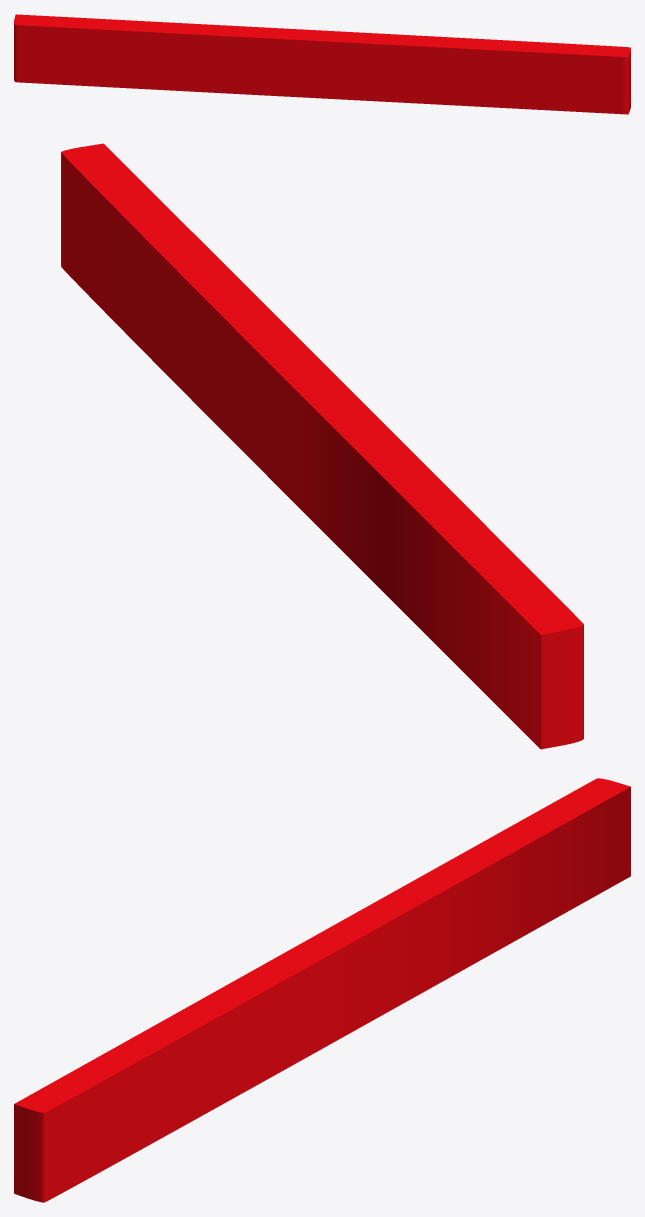
Rendered from Asteroid1MeshA.fbx.
3 renders of one model, top to bottom at view 1: azimuth 30°, elevation 25°; view 2: azimuth 150°, elevation 25°; view 3: azimuth 270°, elevation 25°, orthographic. The views are drawn at different scales.
Visible parts, largest first — view 1: Curve; view 2: Curve; view 3: Curve.
Boxes of the visible parts, x1,y1,x2,y2 form: Curve: (14,14,630,114); Curve: (61,143,583,749); Curve: (14,778,630,1202).
Size of the model in its own units: 0.016 by 0.002 by 0.0125.
